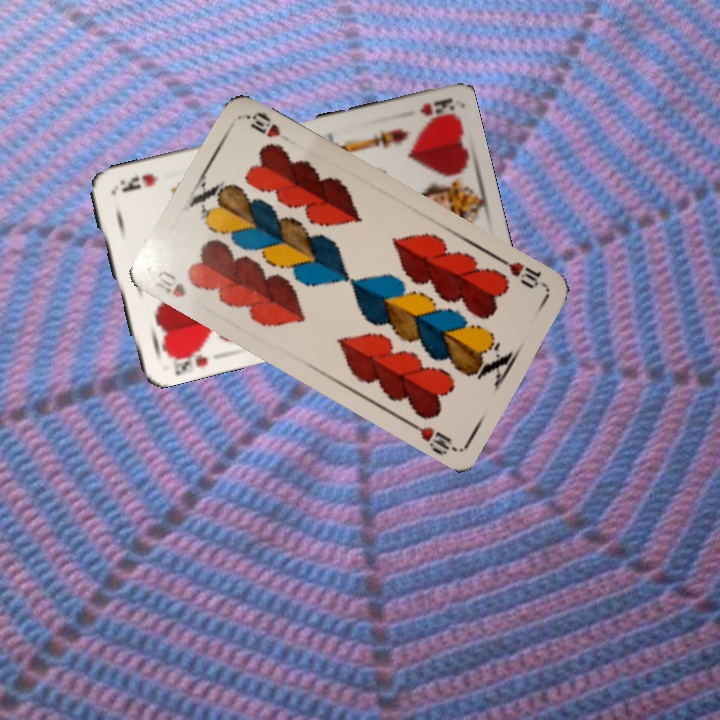H10: (495, 254, 545, 292), (151, 266, 189, 301)
HK: (163, 341, 210, 376), (416, 95, 453, 122)
